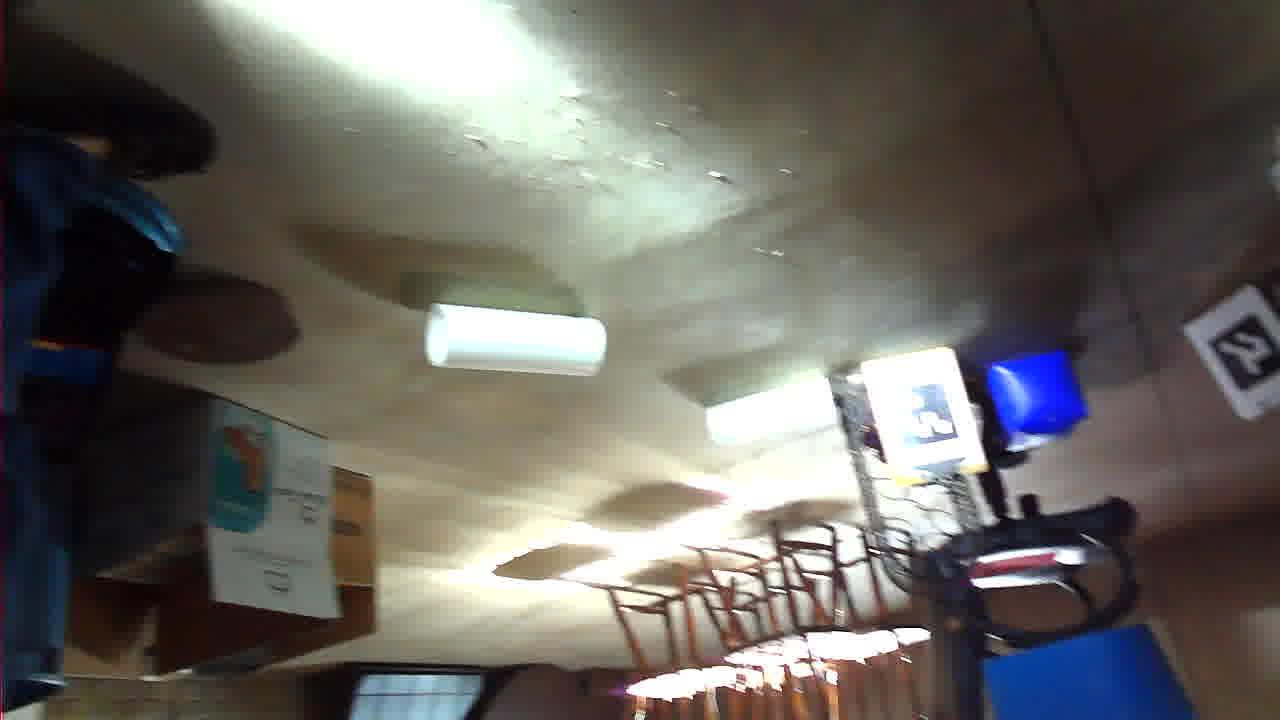coral: (674, 343, 855, 417), (442, 273, 575, 342)
